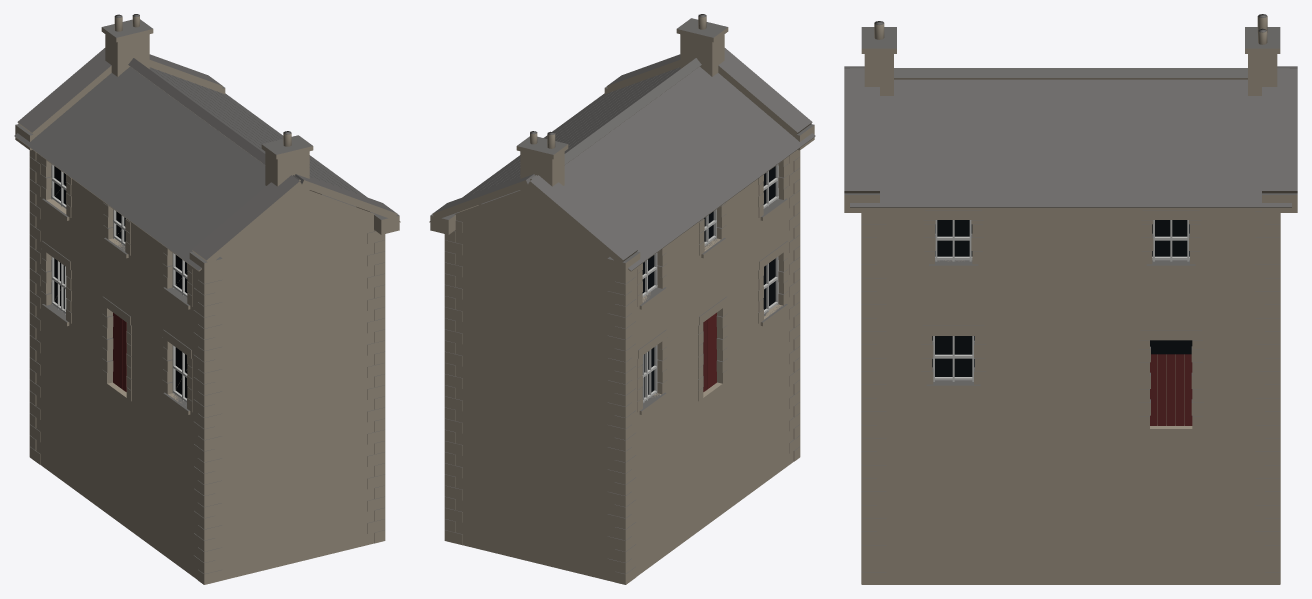
Rendered from context.dales.house_24.glb.
3 renders of one model, left to right at view 1: azimuth 30°, elevation 25°; view 2: azimuth 150°, elevation 25°; view 3: azimuth 270°, elevation 25°, orthographic. The views are drawn at different scales.
Parts seen in each view (by area): view 1: main__stone_a98, main__slate_666, main__paint_ccc, main__glass_dark, main__paint_622; view 2: main__stone_a98, main__slate_666, main__paint_ccc, main__glass_dark, main__paint_622; view 3: main__stone_a98, main__slate_666, main__glass_dark, main__paint_622, main__paint_ccc.
Boxes of the visible parts, <box> form: main__stone_a98: <box>15,16,400,584</box>; main__slate_666: <box>14,14,399,573</box>; main__paint_ccc: <box>51,164,187,402</box>; main__glass_dark: <box>54,166,187,398</box>; main__paint_622: <box>113,312,126,391</box>; main__stone_a98: <box>429,16,814,584</box>; main__slate_666: <box>430,14,815,573</box>; main__paint_ccc: <box>642,164,778,403</box>; main__glass_dark: <box>642,166,775,397</box>; main__paint_622: <box>703,312,716,391</box>; main__stone_a98: <box>844,16,1297,584</box>; main__slate_666: <box>844,14,1297,572</box>; main__glass_dark: <box>932,220,1192,376</box>; main__paint_622: <box>1150,354,1192,425</box>; main__paint_ccc: <box>932,220,1189,381</box>.
Size of the model in its own units: 5.69 by 11.47 by 9.22.
